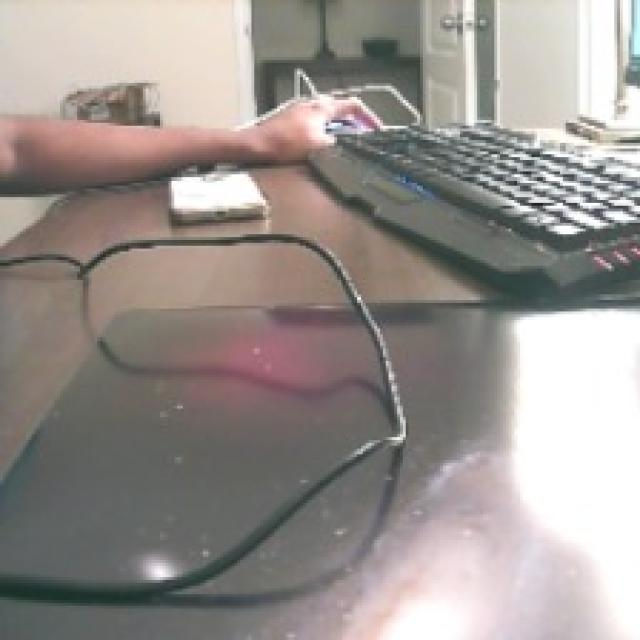Galaxy: (307, 442, 579, 640)
